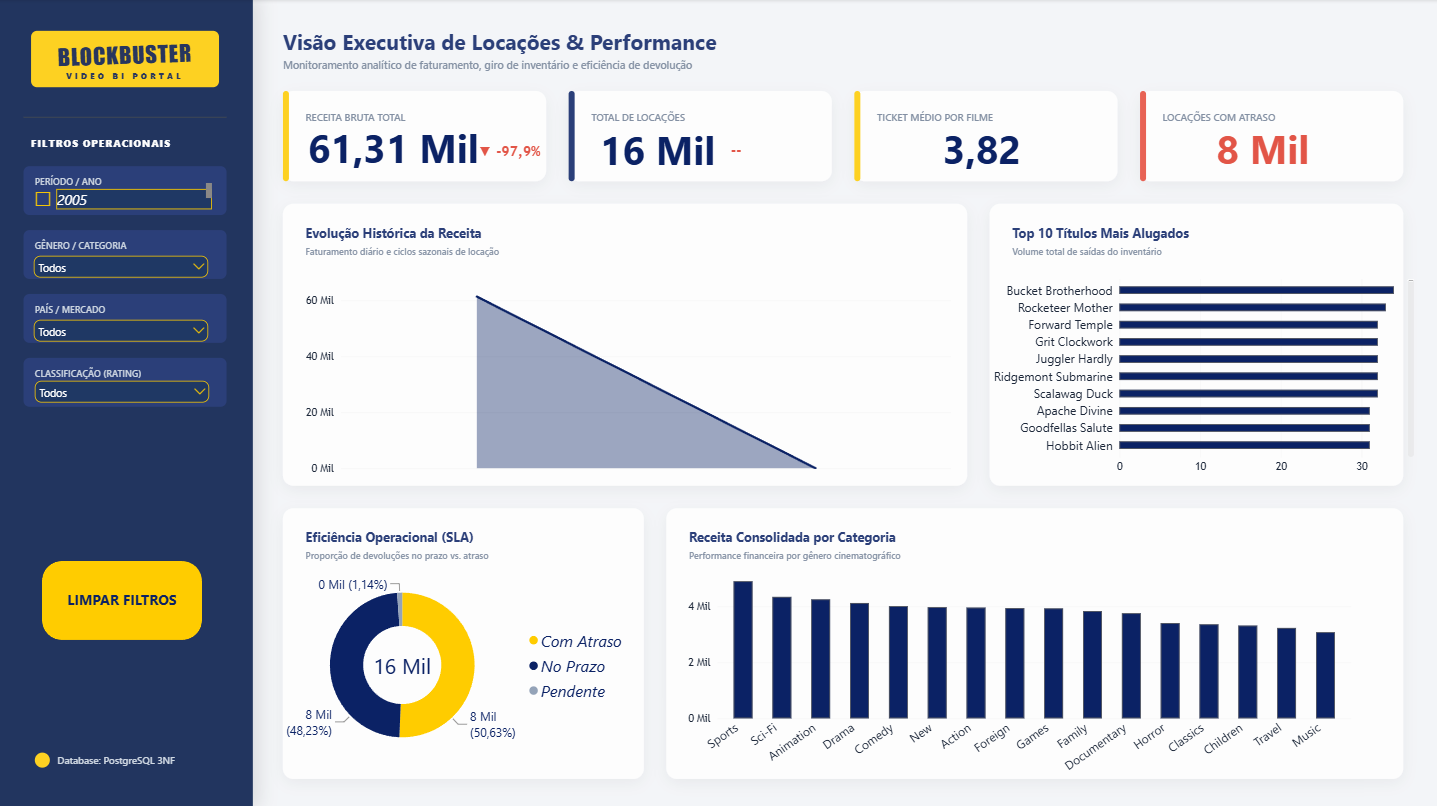

The dashboard page shown, as its layout file describes it:
{"tool":"powerbi","page":{"name":"Main","canvas":[1920,1080],"ordinal":0},"visuals":[{"type":"cardVisual","fields":{"Data":["_Medidas.Receita Total"]},"box":[395.7,124.3,262.9,147.1],"z":0},{"type":"cardVisual","fields":{"Data":["_Medidas.Total Alugueis"]},"box":[768.8,102.4,220.8,196.8],"z":1000},{"type":"cardVisual","fields":{"Data":["_Medidas.Total Atrasos"]},"box":[1550.8,85.1,266,226.1],"z":2000},{"type":"cardVisual","fields":{"Data":["_Medidas.Ticket Medio"]},"box":[1177.1,85.1,266,226.1],"z":3000},{"type":"lineChart","fields":{"Category":["d_calendario.Mes_Ano"],"Y":["_Medidas.Receita Total"]},"box":[395,340.5,889.8,308.6],"z":4000},{"type":"barChart","fields":{"Category":["v_dim_filme.titulo"],"Y":["_Medidas.Total Alugueis"]},"box":[1248.9,351.1,651.7,297.9],"z":5000},{"type":"donutChart","fields":{"Category":["v_fato_locacao.status_devolucao"],"Y":["_Medidas.Total Alugueis"]},"box":[372.4,747.5,468.2,276.7],"z":6000},{"type":"clusteredColumnChart","fields":{"Category":["v_dim_filme.categoria"],"Y":["_Medidas.Receita Total"]},"box":[903.1,747.5,913.7,315.2],"z":7000},{"type":"slicer","fields":{"Values":["v_dim_filme.classificacao_indicativa"]},"box":[45.2,502.8,242.1,34.6],"z":8000},{"type":"slicer","fields":{"Values":["v_dim_cliente.pais"]},"box":[43.9,421.6,242.1,65.2],"z":9000},{"type":"slicer","fields":{"Values":["v_fato_locacao.Ano_Locacao"]},"box":[43.9,244.7,242.1,39.9],"z":10000},{"type":"slicer","fields":{"Values":["v_dim_filme.categoria"]},"box":[43.9,336.5,242.1,65.2],"z":11000},{"type":"cardVisual","fields":{"Data":["_Medidas.Indicador_Receita"]},"box":[624.3,142.9,120,121.4],"z":12000},{"type":"cardVisual","fields":{"Data":["_Medidas.Indicador_Locacoes"]},"box":[960,140,120,121.4],"z":13000},{"type":"actionButton","box":[59.9,747.5,212.8,105.1],"z":14000}]}

Visuals, with their boxes in screenshot pixels (x1, y1, x2, y2), scaled from the page's 1920x1080 canvas onto the 1437x806 screenshot:
cardVisual - _Medidas.Receita Total: [x1=296, y1=93, x2=493, y2=203]
cardVisual - _Medidas.Total Alugueis: [x1=575, y1=76, x2=741, y2=223]
cardVisual - _Medidas.Total Atrasos: [x1=1161, y1=64, x2=1360, y2=232]
cardVisual - _Medidas.Ticket Medio: [x1=881, y1=64, x2=1080, y2=232]
lineChart - d_calendario.Mes_Ano x _Medidas.Receita Total: [x1=296, y1=254, x2=962, y2=484]
barChart - v_dim_filme.titulo x _Medidas.Total Alugueis: [x1=935, y1=262, x2=1422, y2=484]
donutChart - v_fato_locacao.status_devolucao x _Medidas.Total Alugueis: [x1=279, y1=558, x2=629, y2=764]
clusteredColumnChart - v_dim_filme.categoria x _Medidas.Receita Total: [x1=676, y1=558, x2=1360, y2=793]
slicer - v_dim_filme.classificacao_indicativa: [x1=34, y1=375, x2=215, y2=401]
slicer - v_dim_cliente.pais: [x1=33, y1=315, x2=214, y2=363]
slicer - v_fato_locacao.Ano_Locacao: [x1=33, y1=183, x2=214, y2=212]
slicer - v_dim_filme.categoria: [x1=33, y1=251, x2=214, y2=300]
cardVisual - _Medidas.Indicador_Receita: [x1=467, y1=107, x2=557, y2=197]
cardVisual - _Medidas.Indicador_Locacoes: [x1=718, y1=104, x2=808, y2=195]
actionButton: [x1=45, y1=558, x2=204, y2=636]
